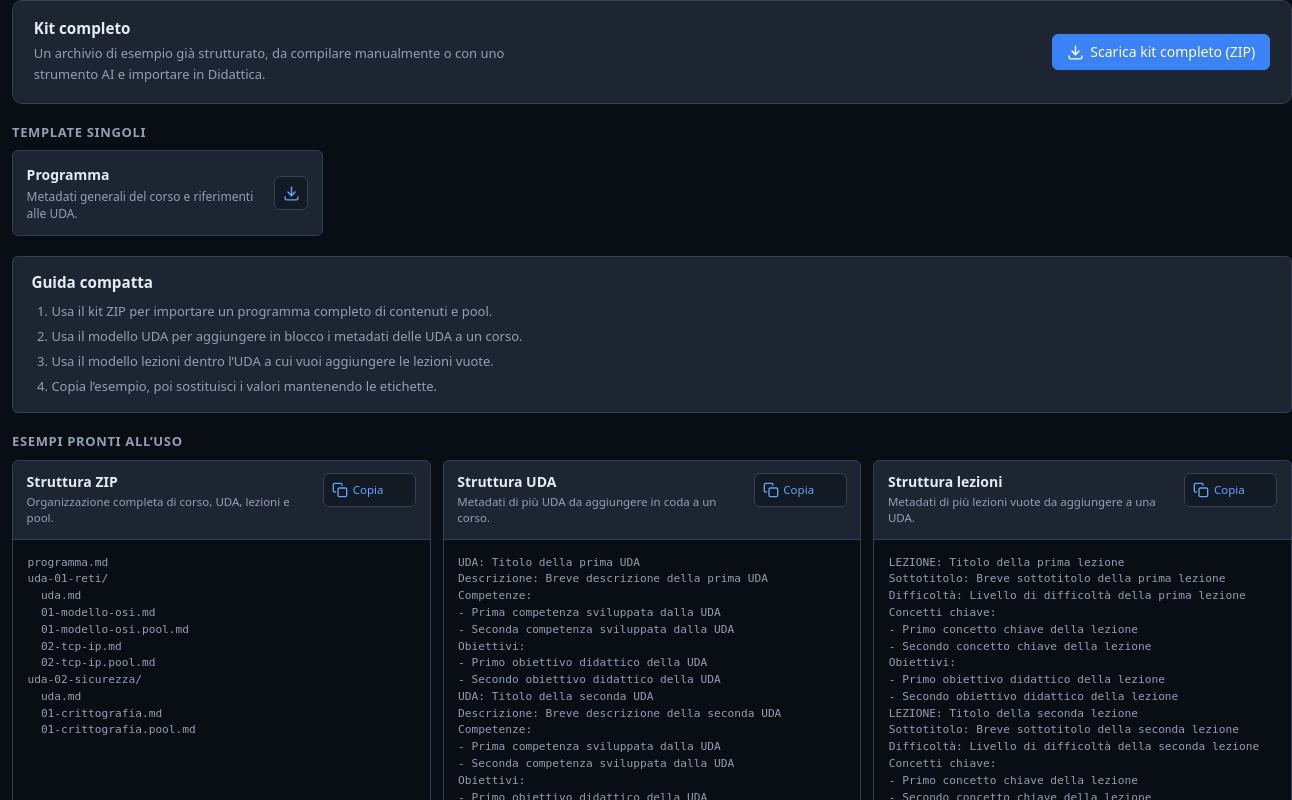
l’esito vive nel pulsante della card interessata › errore: «Riprova» compare solo sulla card interessata
The image size is (1292, 800).
Click the button "Copia" in the row of "Struttura lezioni" at {"x": 1231, "y": 490}, box [1184, 473, 1277, 507]
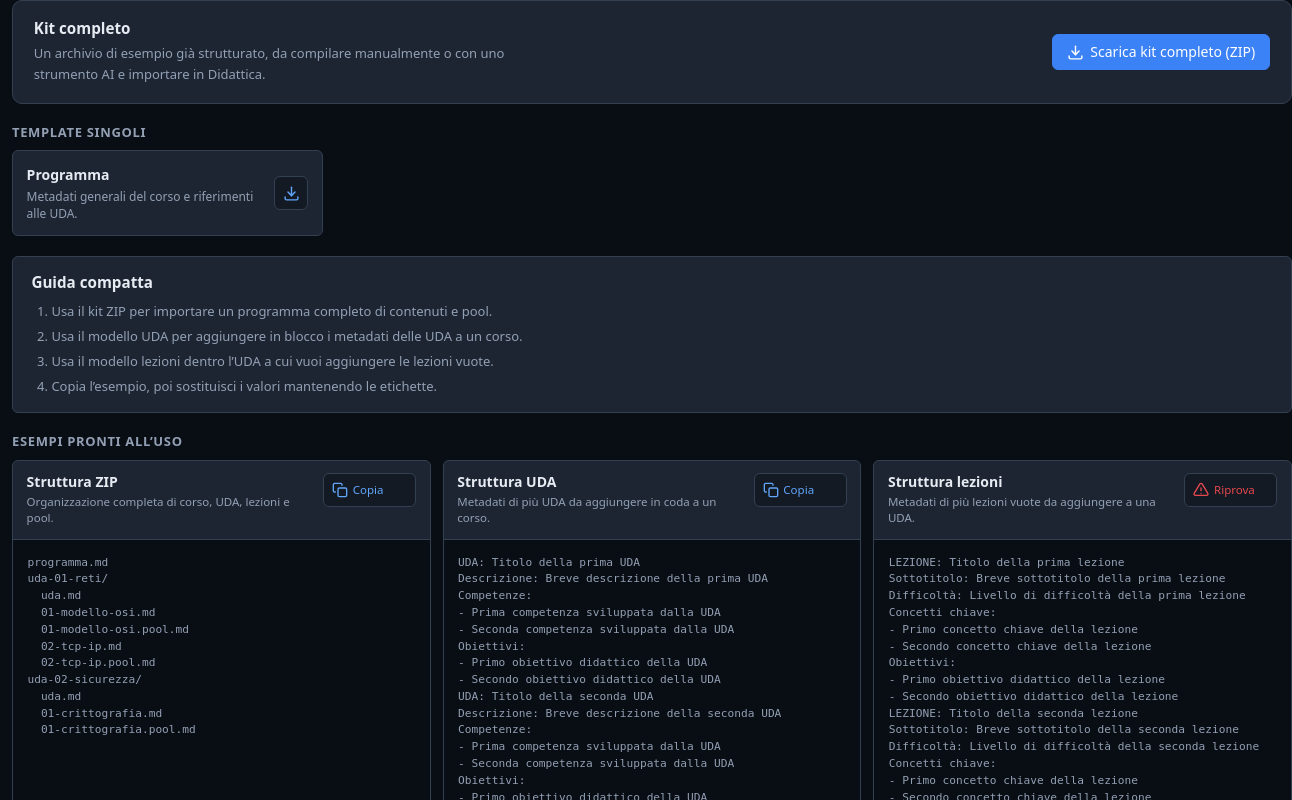
Expected: the text "Copia" in the row of "Struttura ZIP" is shown, [353, 482, 384, 497]
Expected: the text "Riprova" is shown, [1214, 482, 1255, 497]
